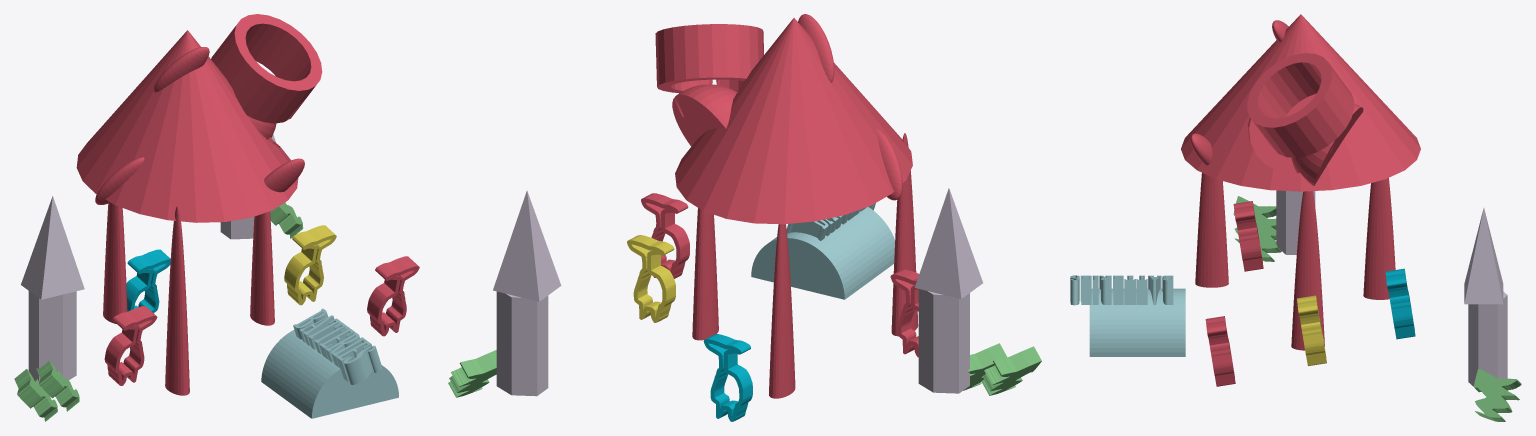
File: Tremendous Stantia-Migelo.glb
The picture shows the model from 3 angles, left to right: view 1: azimuth 30°, elevation 25°; view 2: azimuth 150°, elevation 25°; view 3: azimuth 270°, elevation 25°; orthographic projection. The views are drawn at different scales.
Visible parts, largest first — view 1: Mesh_Mesh_head_geo.001_lambert2SG.001; view 2: Mesh_Mesh_head_geo.001_lambert2SG.001; view 3: Mesh_Mesh_head_geo.001_lambert2SG.001.
Boxes of the visible parts, bbox=[...] form: Mesh_Mesh_head_geo.001_lambert2SG.001: bbox=[14, 14, 419, 421]; Mesh_Mesh_head_geo.001_lambert2SG.001: bbox=[448, 14, 1041, 421]; Mesh_Mesh_head_geo.001_lambert2SG.001: bbox=[1070, 14, 1521, 421].
Size of the model in its own units: 95.85 by 73.45 by 93.94.
